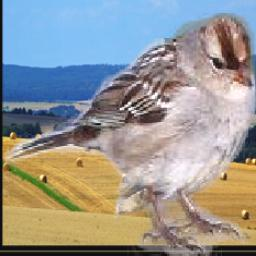Sparrow: (5, 14, 256, 256)
